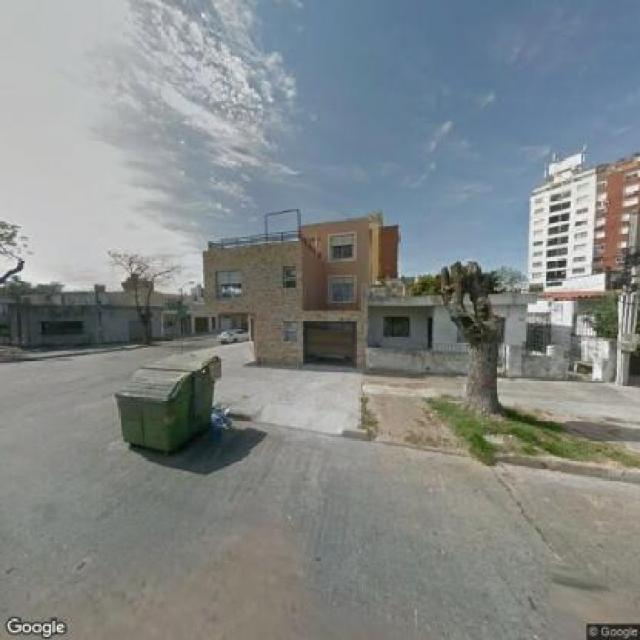garbage: (191, 389, 268, 474)
